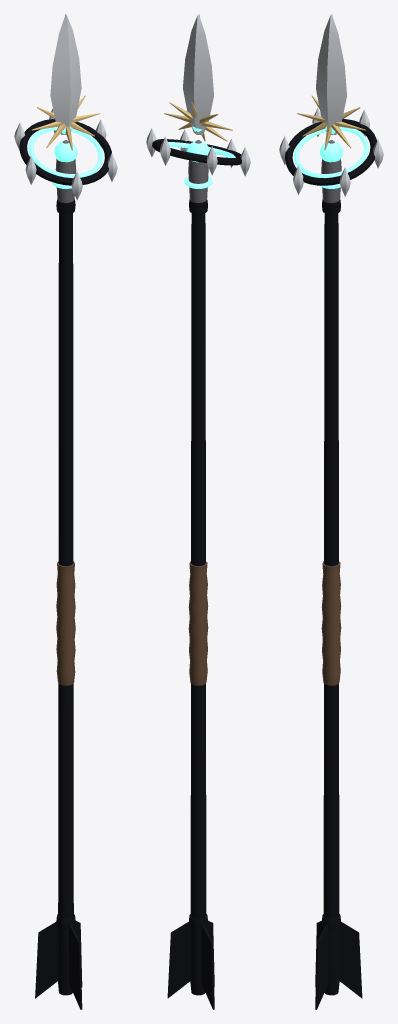
Rendered from esc_w_ranger_javelin_9.glb.
The picture shows the model from 3 angles, left to right: view 1: azimuth 30°, elevation 25°; view 2: azimuth 150°, elevation 25°; view 3: azimuth 330°, elevation 25°; orthographic projection.
Visible parts, largest first — view 1: esc_w_ranger_javelin_9; view 2: esc_w_ranger_javelin_9; view 3: esc_w_ranger_javelin_9.
Part boxes in pixels (box(x1,y1,x2,y2)): esc_w_ranger_javelin_9: box(14, 14, 117, 1009); esc_w_ranger_javelin_9: box(146, 14, 250, 1009); esc_w_ranger_javelin_9: box(279, 14, 383, 1009).
Bounding box in the file's own units: 0.1602 × 1.65 × 0.1516.
